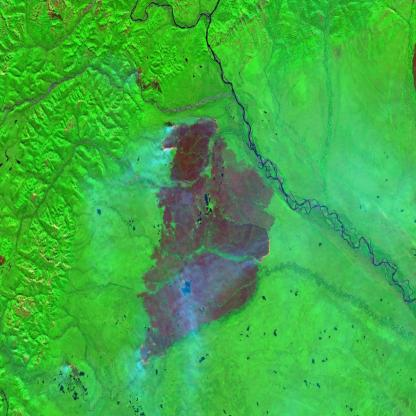fire: (152, 111, 222, 161), (130, 328, 171, 379), (252, 233, 274, 273), (66, 352, 86, 386)
